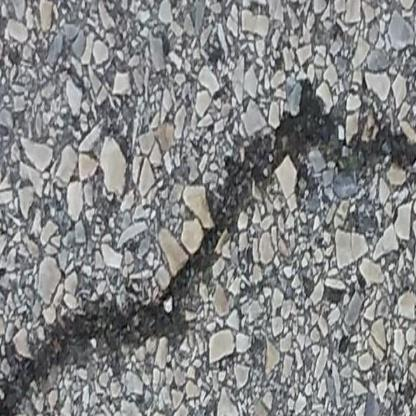Cracks: (0, 80, 416, 416), (400, 368, 416, 404)
